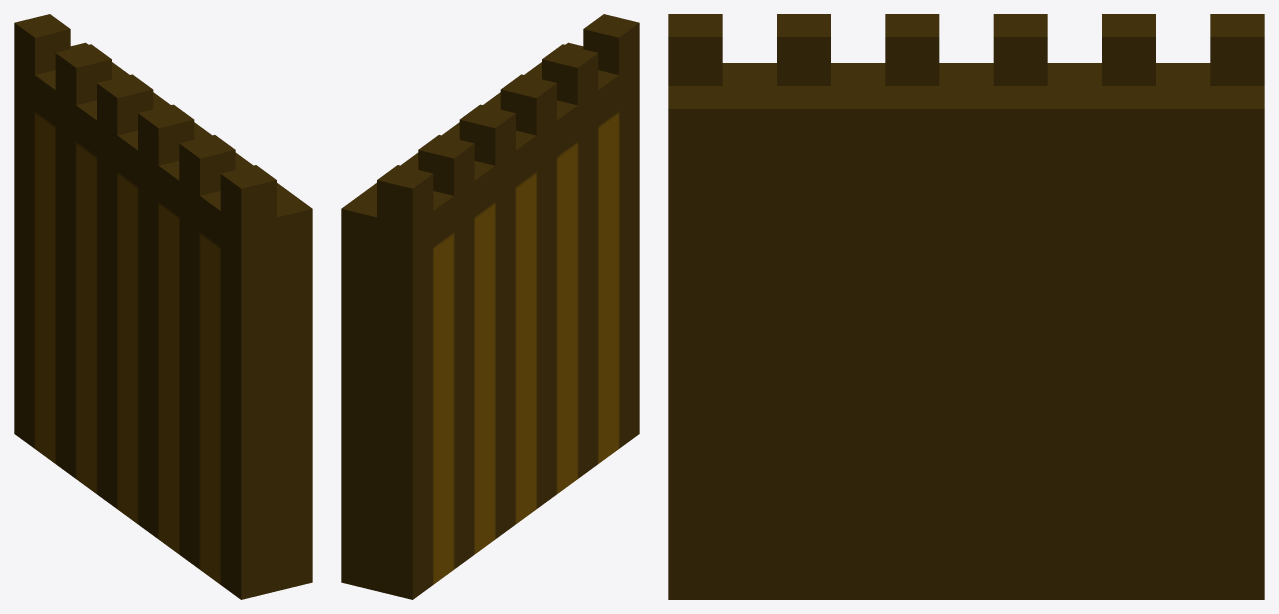
The model's file is chapter2_wall.fbx.
3 renders of one model, left to right at view 1: azimuth 30°, elevation 25°; view 2: azimuth 150°, elevation 25°; view 3: azimuth 270°, elevation 25°, orthographic. The views are drawn at different scales.
Parts seen in each view (by area): view 1: Box; view 2: Box; view 3: Box.
Part boxes in pixels (left/top/right/bottom): Box: left=14, top=14, right=312, bottom=599; Box: left=341, top=14, right=639, bottom=599; Box: left=668, top=14, right=1264, bottom=599.
Bounding box in the file's own units: 2 × 11 × 11.
